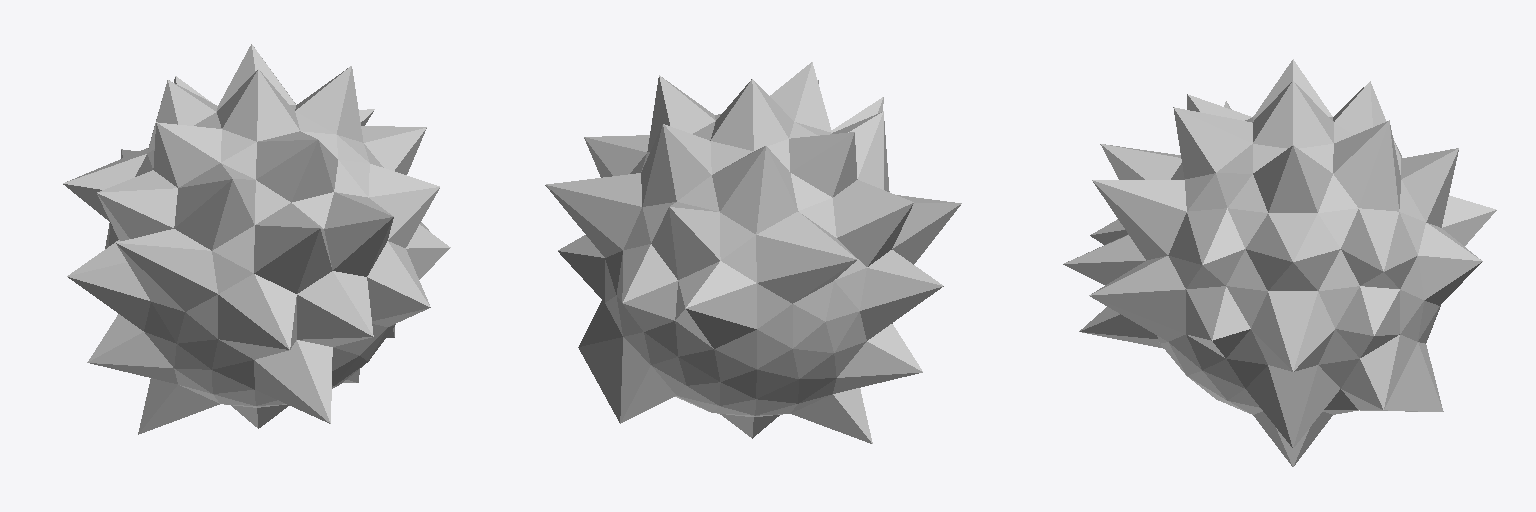
File: Spiked Ball.obj
The picture shows the model from 3 angles: view 1: azimuth 30°, elevation 25°; view 2: azimuth 150°, elevation 25°; view 3: azimuth 270°, elevation 25°; orthographic projection.
Parts seen in each view (by area): view 1: Spiked Ball; view 2: Spiked Ball; view 3: Spiked Ball.
Part boxes in pixels (bbox=[...]): Spiked Ball: bbox=[63, 44, 450, 434]; Spiked Ball: bbox=[545, 62, 961, 443]; Spiked Ball: bbox=[1063, 59, 1496, 466].
Bounding box in the file's own units: 1.37 × 1.29 × 1.41.